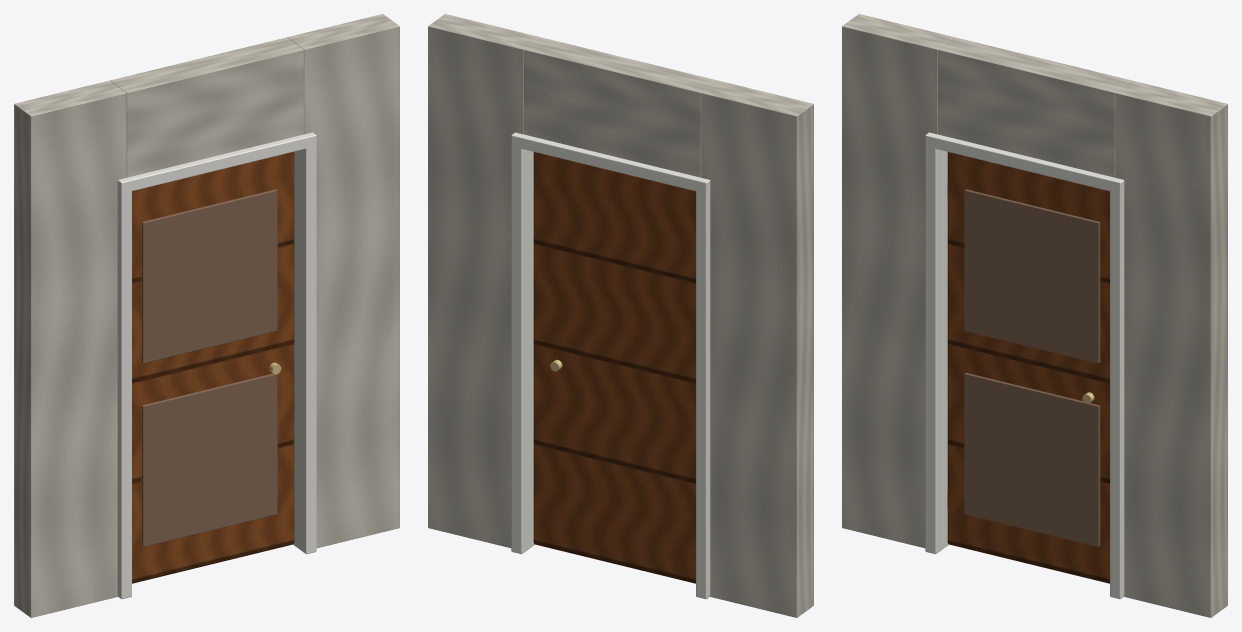
File: paranormal-investigation-house-interior-door-3d3cfbcc.glb
3 renders of one model, left to right at view 1: azimuth 30°, elevation 25°; view 2: azimuth 150°, elevation 25°; view 3: azimuth 330°, elevation 25°, orthographic.
Visible parts, largest first — view 1: interior-door, door/walnut, door/oakFloor; view 2: interior-door, door/oakFloor; view 3: interior-door, door/walnut, door/oakFloor.
Boxes of the visible parts, x1,y1,x2,y2 form: interior-door: (14, 14, 399, 617); door/walnut: (141, 189, 277, 546); door/oakFloor: (132, 152, 294, 583); interior-door: (428, 14, 813, 617); door/oakFloor: (533, 152, 695, 583); interior-door: (842, 14, 1227, 617); door/walnut: (964, 189, 1100, 546); door/oakFloor: (947, 152, 1109, 583).
Size of the model in its own units: 2 by 2.6 by 0.2299.
Materials: 5 (2 with a texture image).
